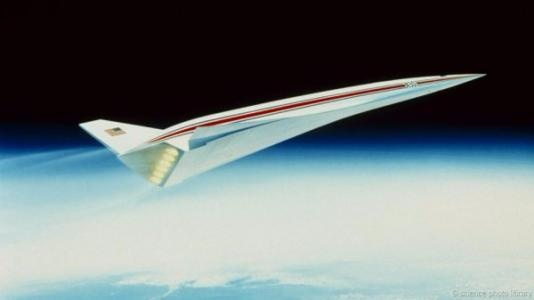airplane: (83, 63, 487, 186)
